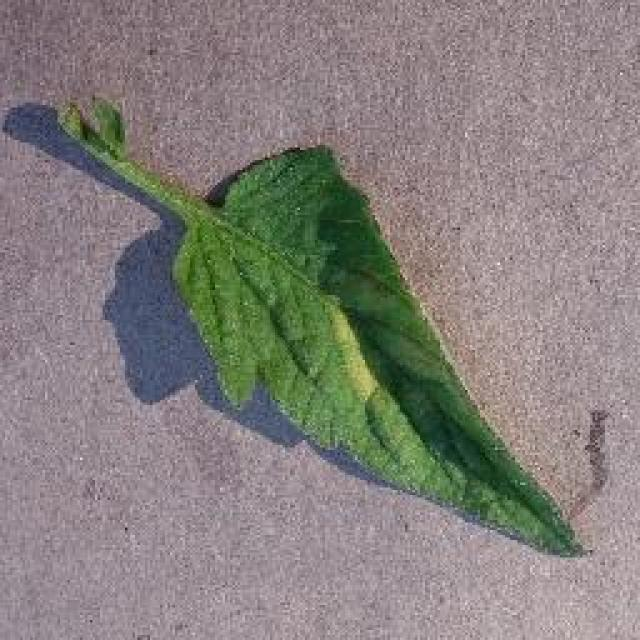leaf mold: (65, 111, 588, 554)
